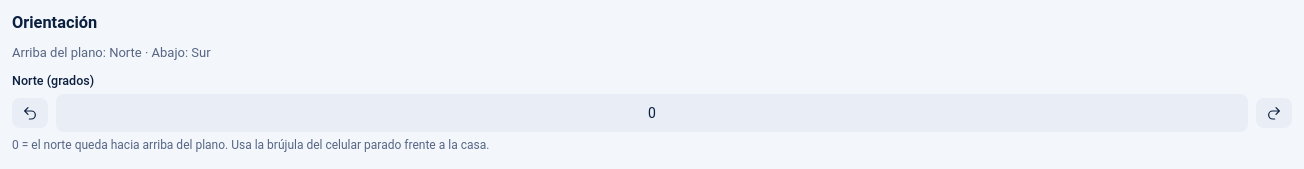
it: turning the compass says which way each side of the plan faces
Expected: the text "Arriba del plano: Norte · Abajo: Sur" is shown, [12,45,211,60]
Click the button named "Girar el norte 15° a la derecha". click: (1274, 113)
box: [1256,98,1292,128]
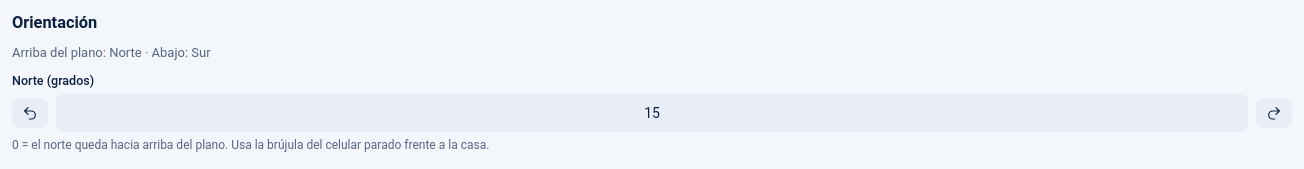
Replace the text in the field labelled "Norte (grados)" with "180". click: (652, 113)
box: [56,94,1248,132]
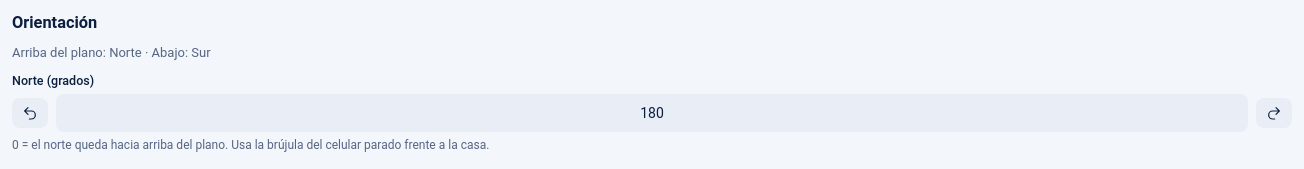
Press Enter in the field labelled "Norte (grados)", box [56,94,1248,132]
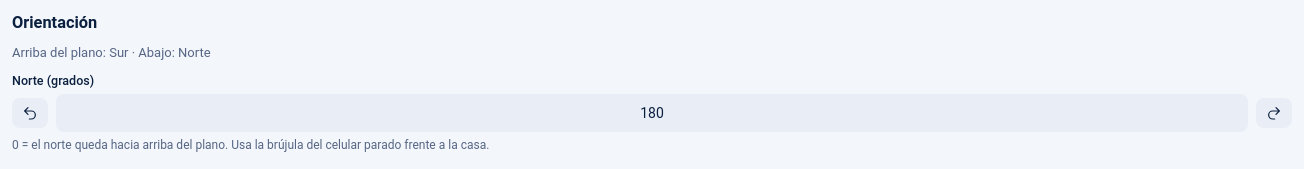
Expected: the text "Arriba del plano: Sur · Abajo: Norte" is shown, [12,45,211,60]
